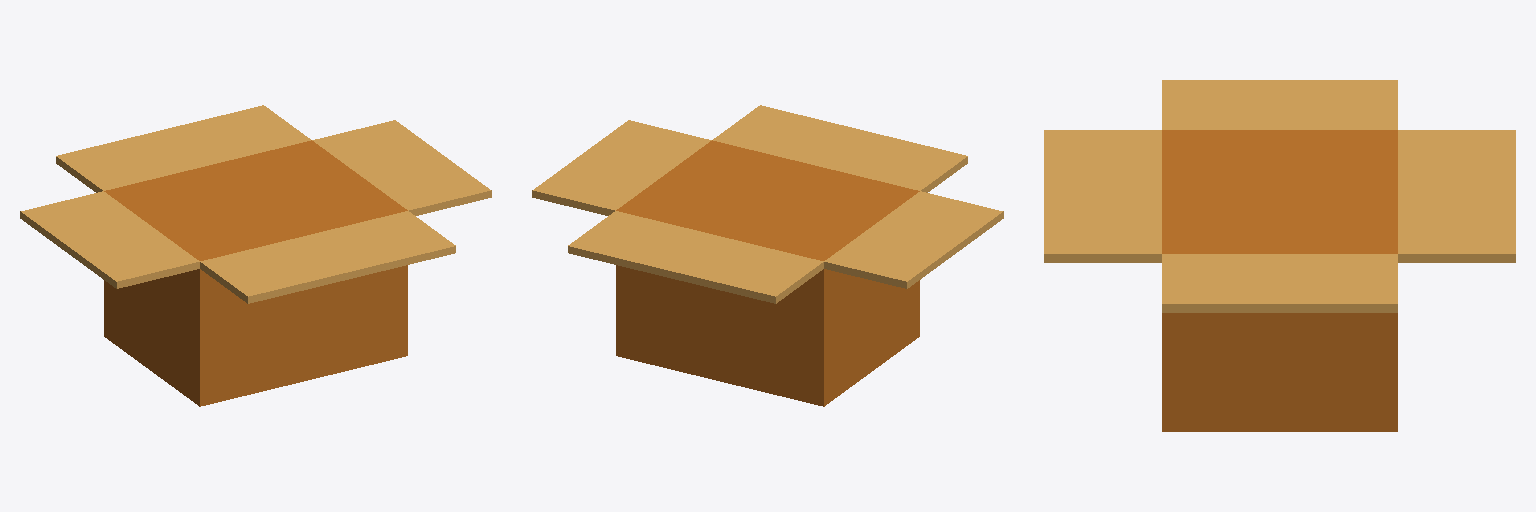
URDF robot description (foldable_box):
<?xml version="1.0"?>
<robot name="foldable_box">
  <material name="box_base_color">
    <color rgba="0.8 0.5 0.2 1"/>
  </material>
  <material name="box_flap_color">
    <color rgba="0.9 0.7 0.4 1"/>
  </material>

  <!-- Base link -->
  <link name="base_link">
    <inertial>
      <origin xyz="0 0 0" rpy="0 0 0"/>
      <mass value="0.5"/>
      <inertia ixx="0.002" iyy="0.002" izz="0.002" ixy="0" ixz="0" iyz="0"/>
    </inertial>
    <visual>
      <origin xyz="0 0 0" rpy="0 0 0"/>
      <geometry>
        <box size="0.30 0.24 0.20"/>
      </geometry>
      <material name="box_base_color"/>
    </visual>
    <collision>
      <origin xyz="0 0 0" rpy="0 0 0"/>
      <geometry>
        <box size="0.30 0.24 0.20"/>
      </geometry>
    </collision>
  </link>

  <!-- +X flap -->
  <link name="flap_px">
    <inertial>
      <origin xyz="0.06 0 -0.005" rpy="0 0 0"/>
      <mass value="0.1"/>
      <inertia ixx="0.0003" iyy="0.0003" izz="0.0003" ixy="0" ixz="0" iyz="0"/>
    </inertial>
    <visual>
      <origin xyz="0.06 0 -0.005" rpy="0 0 0"/>
      <geometry>
        <box size="0.12 0.24 0.01"/>
      </geometry>
      <material name="box_flap_color"/>
    </visual>
    <collision>
      <origin xyz="0.06 0 -0.005" rpy="0 0 0"/>
      <geometry>
        <box size="0.12 0.24 0.01"/>
      </geometry>
    </collision>
  </link>
  <joint name="flap_px_joint" type="revolute">
    <parent link="base_link"/>
    <child link="flap_px"/>
    <origin xyz="0.15 0 0.10" rpy="0 0 0"/>
    <axis xyz="0 1 0"/>
    <limit effort="5" velocity="5" lower="-3.14" upper="3.14"/>
  </joint>

  <!-- -X flap -->
  <link name="flap_nx">
    <inertial>
      <origin xyz="-0.06 0 -0.005" rpy="0 0 0"/>
      <mass value="0.1"/>
      <inertia ixx="0.0003" iyy="0.0003" izz="0.0003" ixy="0" ixz="0" iyz="0"/>
    </inertial>
    <visual>
      <origin xyz="-0.06 0 -0.005" rpy="0 0 0"/>
      <geometry>
        <box size="0.12 0.24 0.01"/>
      </geometry>
      <material name="box_flap_color"/>
    </visual>
    <collision>
      <origin xyz="-0.06 0 -0.005" rpy="0 0 0"/>
      <geometry>
        <box size="0.12 0.24 0.01"/>
      </geometry>
    </collision>
  </link>
  <joint name="flap_nx_joint" type="revolute">
    <parent link="base_link"/>
    <child link="flap_nx"/>
    <origin xyz="-0.15 0 0.10" rpy="0 0 0"/>
    <axis xyz="0 1 0"/>
    <limit effort="5" velocity="5" lower="-3.14" upper="3.14"/>
  </joint>

  <!-- +Y flap -->
  <link name="flap_py">
    <inertial>
      <origin xyz="0 0.06 -0.005" rpy="0 0 0"/>
      <mass value="0.1"/>
      <inertia ixx="0.0003" iyy="0.0003" izz="0.0003" ixy="0" ixz="0" iyz="0"/>
    </inertial>
    <visual>
      <origin xyz="0 0.06 -0.005" rpy="0 0 0"/>
      <geometry>
        <box size="0.30 0.12 0.01"/>
      </geometry>
      <material name="box_flap_color"/>
    </visual>
    <collision>
      <origin xyz="0 0.06 -0.005" rpy="0 0 0"/>
      <geometry>
        <box size="0.30 0.12 0.01"/>
      </geometry>
    </collision>
  </link>
  <joint name="flap_py_joint" type="revolute">
    <parent link="base_link"/>
    <child link="flap_py"/>
    <origin xyz="0 0.12 0.10" rpy="0 0 0"/>
    <axis xyz="1 0 0"/>
    <limit effort="5" velocity="5" lower="-3.14" upper="3.14"/>
  </joint>

  <!-- -Y flap -->
  <link name="flap_ny">
    <inertial>
      <origin xyz="0 -0.06 -0.005" rpy="0 0 0"/>
      <mass value="0.1"/>
      <inertia ixx="0.0003" iyy="0.0003" izz="0.0003" ixy="0" ixz="0" iyz="0"/>
    </inertial>
    <visual>
      <origin xyz="0 -0.06 -0.005" rpy="0 0 0"/>
      <geometry>
        <box size="0.30 0.12 0.01"/>
      </geometry>
      <material name="box_flap_color"/>
    </visual>
    <collision>
      <origin xyz="0 -0.06 -0.005" rpy="0 0 0"/>
      <geometry>
        <box size="0.30 0.12 0.01"/>
      </geometry>
    </collision>
  </link>
  <joint name="flap_ny_joint" type="revolute">
    <parent link="base_link"/>
    <child link="flap_ny"/>
    <origin xyz="0 -0.12 0.10" rpy="0 0 0"/>
    <axis xyz="1 0 0"/>
    <limit effort="5" velocity="5" lower="-3.14" upper="3.14"/>
  </joint>

</robot>

--- What the picture shows (computed from the rendered views, not written in the file) ---
3 views of the same robot in one strip: view 1: azimuth 30°, elevation 25°; view 2: azimuth 150°, elevation 25°; view 3: azimuth 270°, elevation 25° (orthographic).
Model foldable_box with 5 links and 4 joints (4 revolute), rooted at base_link, posed every joint at zero.
Links seen in each view (by area): view 1: base_link, flap_ny, flap_py, flap_nx, flap_px; view 2: base_link, flap_py, flap_ny, flap_nx, flap_px; view 3: base_link, flap_py, flap_ny, flap_px, flap_nx.
Link boxes in pixels (x1,y1,x2,y2): base_link: [104, 140, 407, 406]; flap_ny: [200, 211, 455, 303]; flap_py: [56, 105, 310, 192]; flap_nx: [20, 191, 199, 288]; flap_px: [312, 120, 491, 215]; base_link: [616, 140, 919, 406]; flap_py: [568, 211, 823, 303]; flap_ny: [713, 105, 967, 192]; flap_nx: [824, 191, 1003, 288]; flap_px: [532, 120, 711, 215]; base_link: [1162, 130, 1397, 431]; flap_py: [1398, 130, 1515, 262]; flap_ny: [1044, 130, 1161, 262]; flap_px: [1162, 254, 1397, 312]; flap_nx: [1162, 80, 1397, 129].
Bounding box of the posed robot: 0.54 × 0.48 × 0.2 m (x, y, z).
Geometry: primitives only (box / cylinder / sphere), no mesh files.
